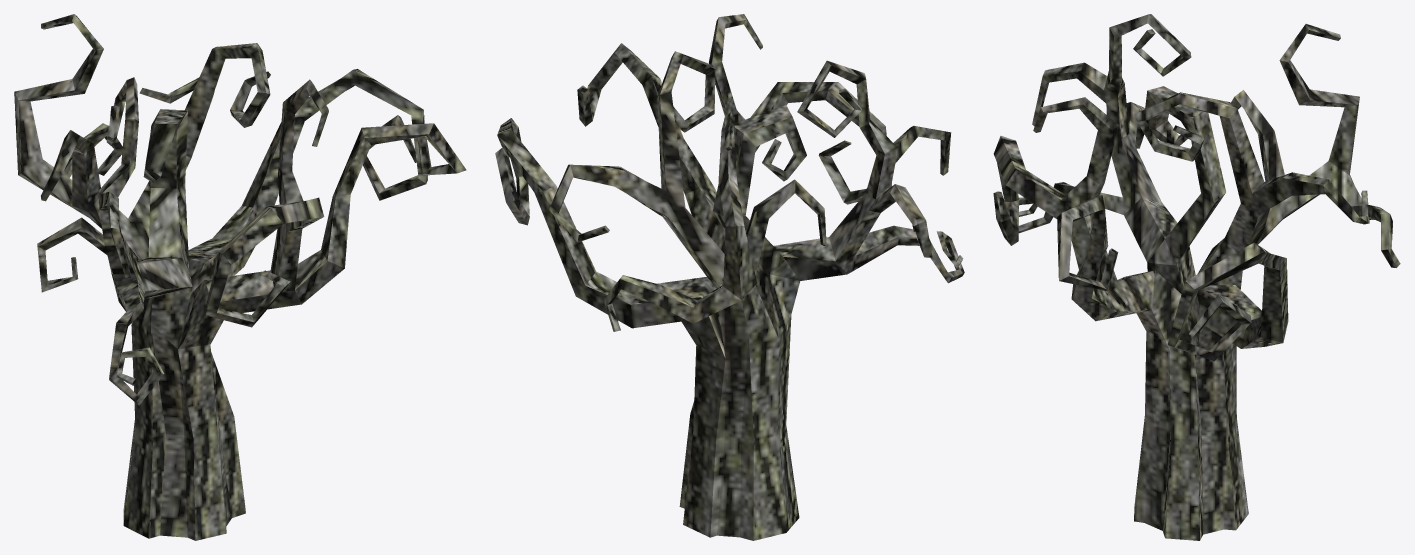
The model's file is tree_02.fbx.
3 renders of one model, left to right at view 1: azimuth 30°, elevation 25°; view 2: azimuth 150°, elevation 25°; view 3: azimuth 270°, elevation 25°, orthographic. The views are drawn at different scales.
Parts seen in each view (by area): view 1: Tree_Type0_02_fix_mesh; view 2: Tree_Type0_02_fix_mesh; view 3: Tree_Type0_02_fix_mesh.
Boxes of the visible parts, x1=… form: Tree_Type0_02_fix_mesh: x1=14, y1=14, x2=466, y2=540; Tree_Type0_02_fix_mesh: x1=495, y1=14, x2=964, y2=540; Tree_Type0_02_fix_mesh: x1=993, y1=14, x2=1400, y2=540.
Size of the model in its own units: 524 by 572 by 452.
1 material, 1 textured.
